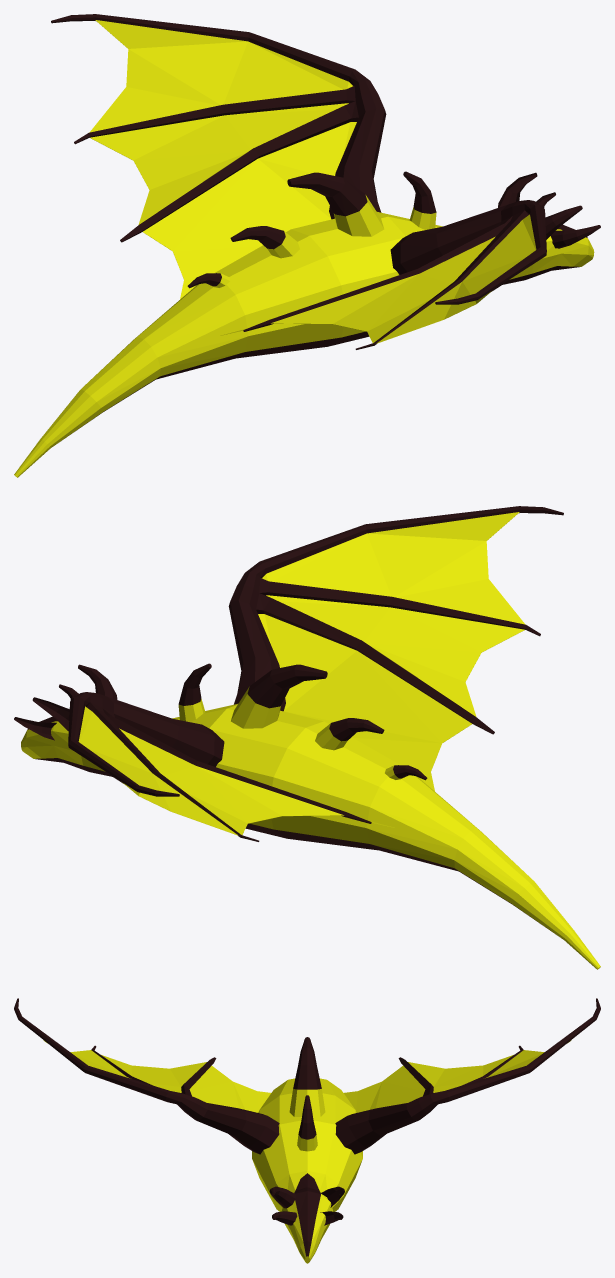
File: Dragon.dae
3 views of the same model, one above another, from view 1: azimuth 30°, elevation 25°; view 2: azimuth 150°, elevation 25°; view 3: azimuth 270°, elevation 25° (orthographic). The views are drawn at different scales.
Parts seen in each view (by area): view 1: Cylinder.001, Cylinder, Cylinder.002; view 2: Cylinder.001, Cylinder, Cylinder.002; view 3: Cylinder.001, Cylinder, Cylinder.002.
Boxes of the visible parts, bbox=[...] form: Cylinder.001: bbox=[51, 14, 546, 349]; Cylinder: bbox=[14, 212, 594, 477]; Cylinder.002: bbox=[187, 171, 600, 288]; Cylinder.001: bbox=[68, 506, 563, 841]; Cylinder: bbox=[21, 704, 600, 969]; Cylinder.002: bbox=[14, 663, 427, 780]; Cylinder.001: bbox=[14, 998, 600, 1154]; Cylinder: bbox=[252, 1078, 362, 1263]; Cylinder.002: bbox=[269, 1037, 344, 1225].
Size of the model in its own units: 2.75 by 3.21 by 1.18.
